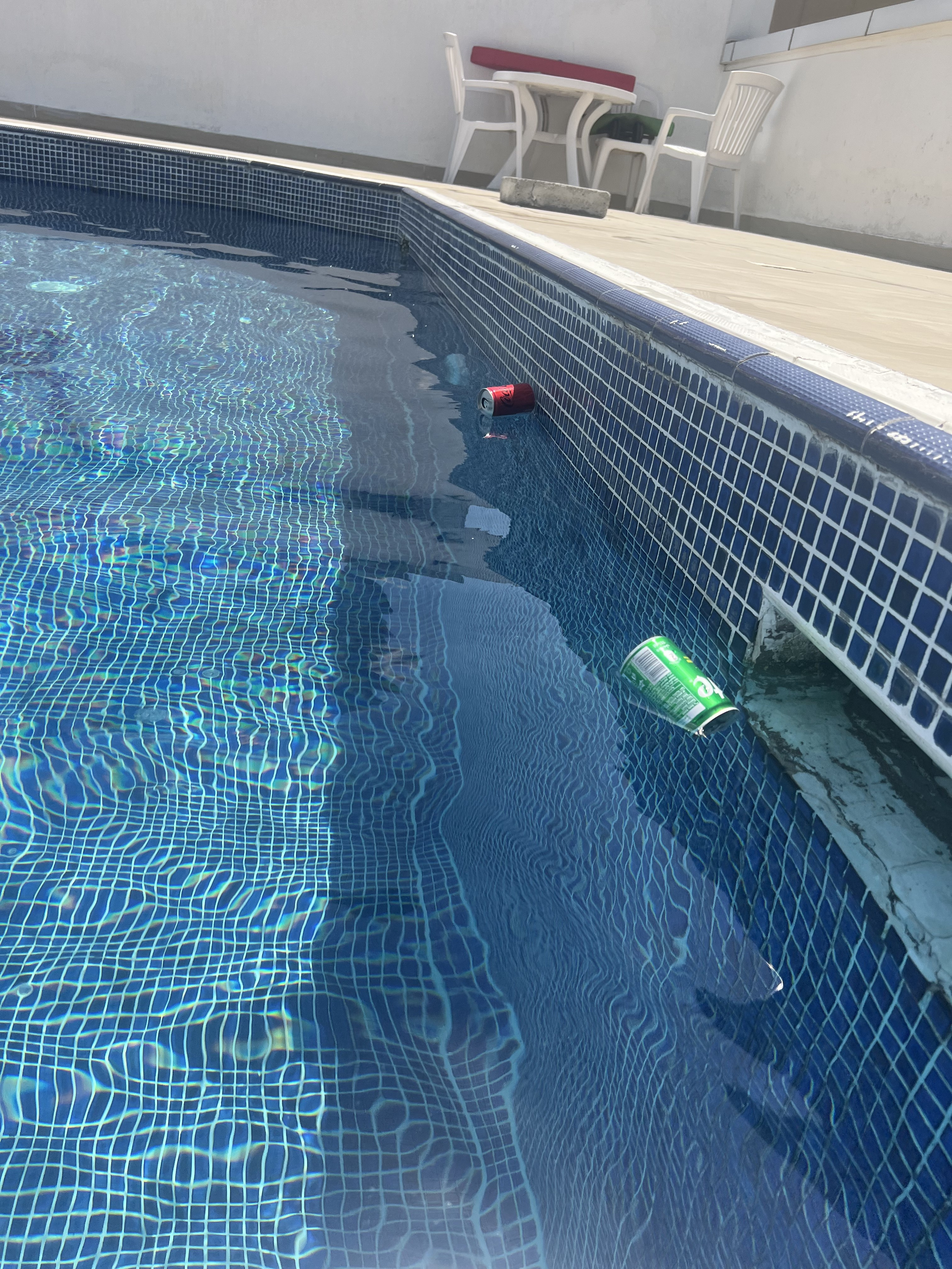debris: (621, 598, 740, 760), (476, 368, 541, 435)
